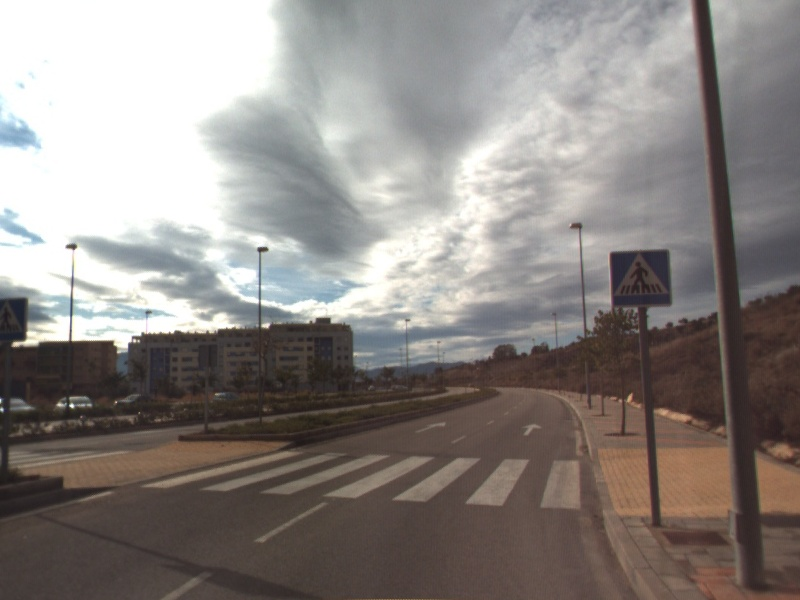STRAIGHT: (413, 419, 448, 434), (520, 421, 544, 438)
